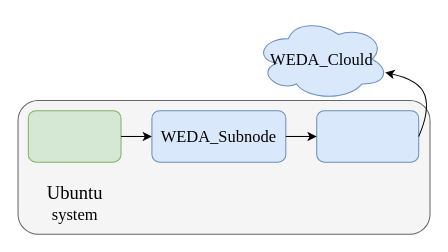
The diagram is 448 pixels wide and 252 high, and some of its shapes have lost their labels. Each missing label, with the centre of its shape:
ROS2: [74,136]
WEDA_Node: [367,136]
